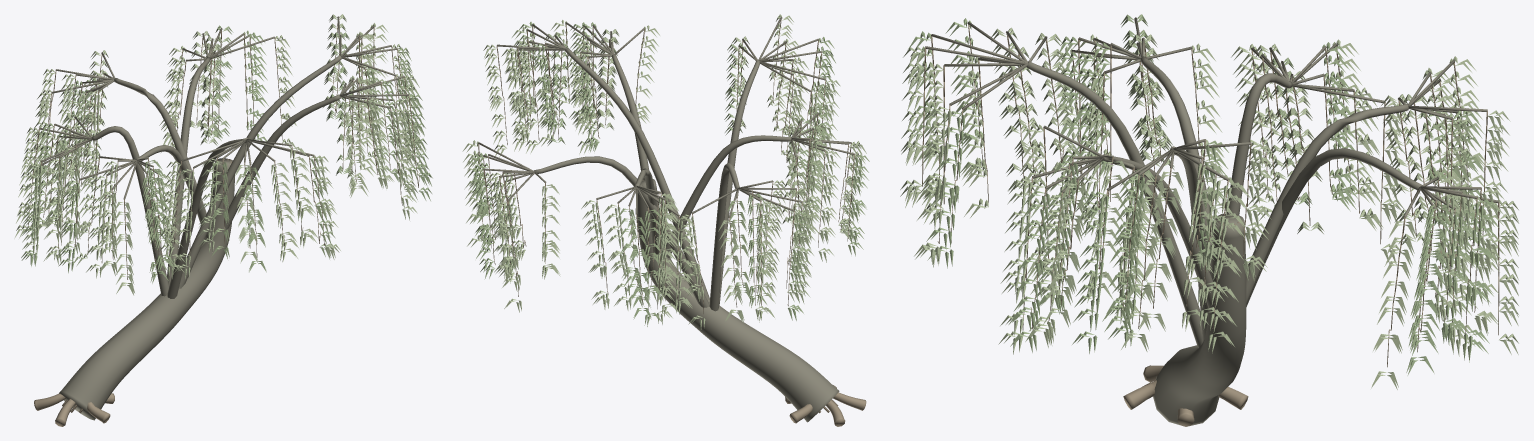
File: grove-willow-0.glb
3 views of the same model, side by side, from view 1: azimuth 30°, elevation 25°; view 2: azimuth 150°, elevation 25°; view 3: azimuth 270°, elevation 25° (orthographic). The views are drawn at different scales.
Visible parts, largest first — view 1: grove-willow-0; view 2: grove-willow-0; view 3: grove-willow-0.
Boxes of the visible parts, x1=… form: grove-willow-0: x1=14, y1=14, x2=432, y2=426; grove-willow-0: x1=462, y1=14, x2=869, y2=426; grove-willow-0: x1=900, y1=14, x2=1518, y2=426.
Size of the model in its own units: 7.62 by 6.53 by 7.6.
